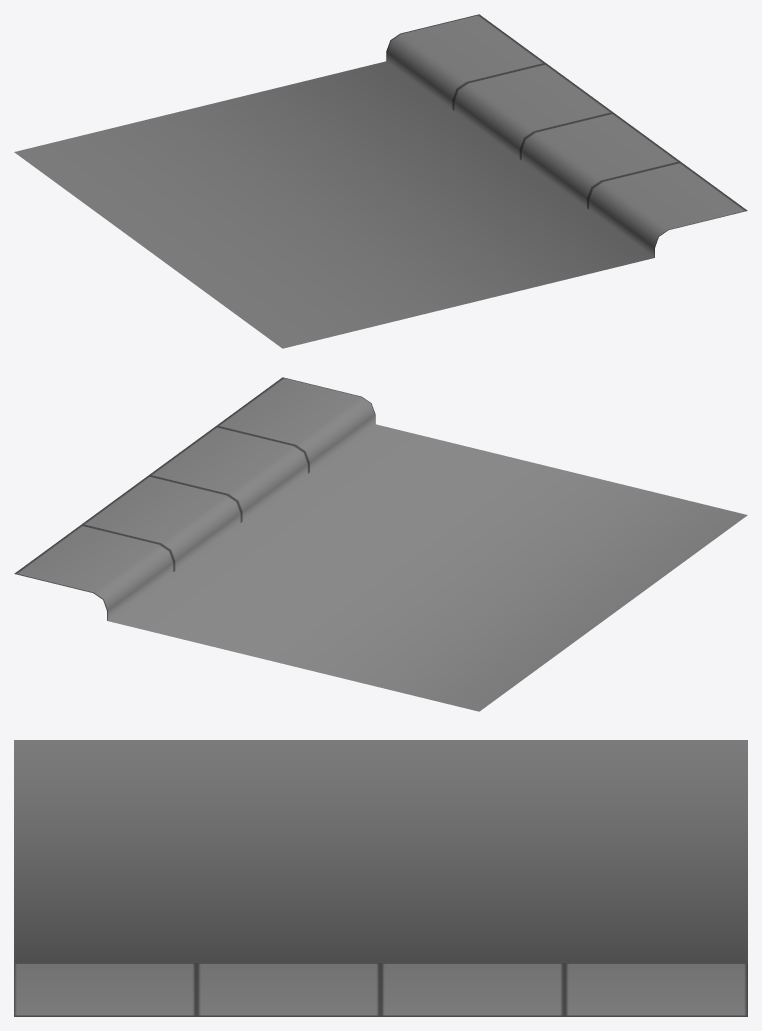
Rendered from PavementEdge.glb.
The picture shows the model from 3 angles, top to bottom: view 1: azimuth 30°, elevation 25°; view 2: azimuth 150°, elevation 25°; view 3: azimuth 270°, elevation 25°; orthographic projection. The views are drawn at different scales.
Visible parts, largest first — view 1: PavementEdge; view 2: PavementEdge; view 3: PavementEdge.
Boxes of the visible parts, box(x1,y1,x2,y2) form: PavementEdge: box(14, 14, 747, 348); PavementEdge: box(14, 377, 747, 711); PavementEdge: box(14, 740, 747, 1016).
Bounding box in the file's own units: 2 × 0.1 × 2.
1 material, 1 textured.
